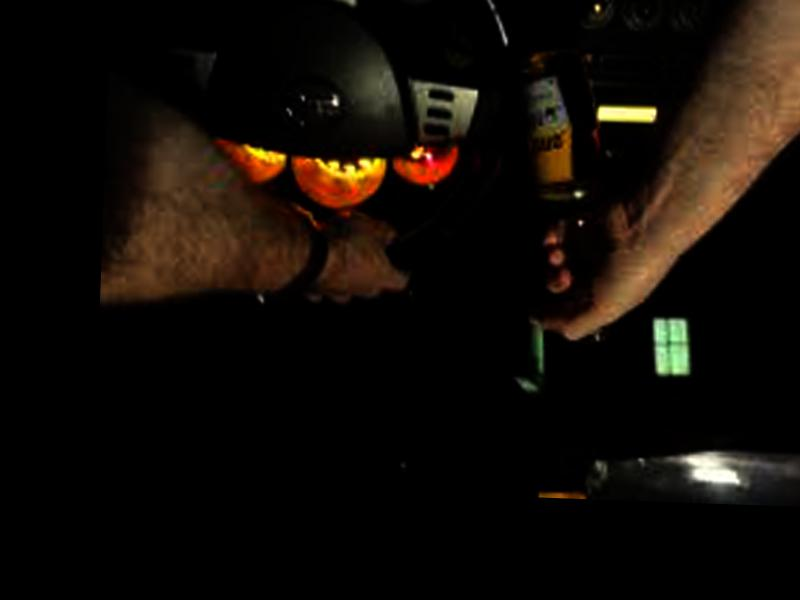Beer: (497, 50, 622, 341)
